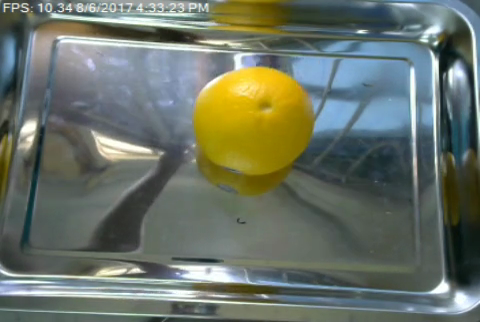Orange: (192, 66, 315, 174)
